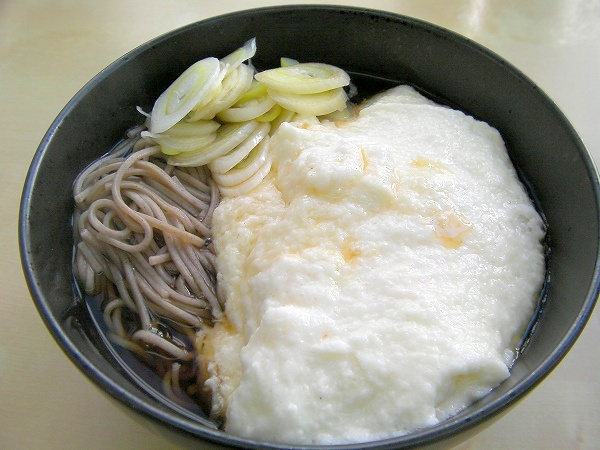Soba: (78, 87, 245, 416)
